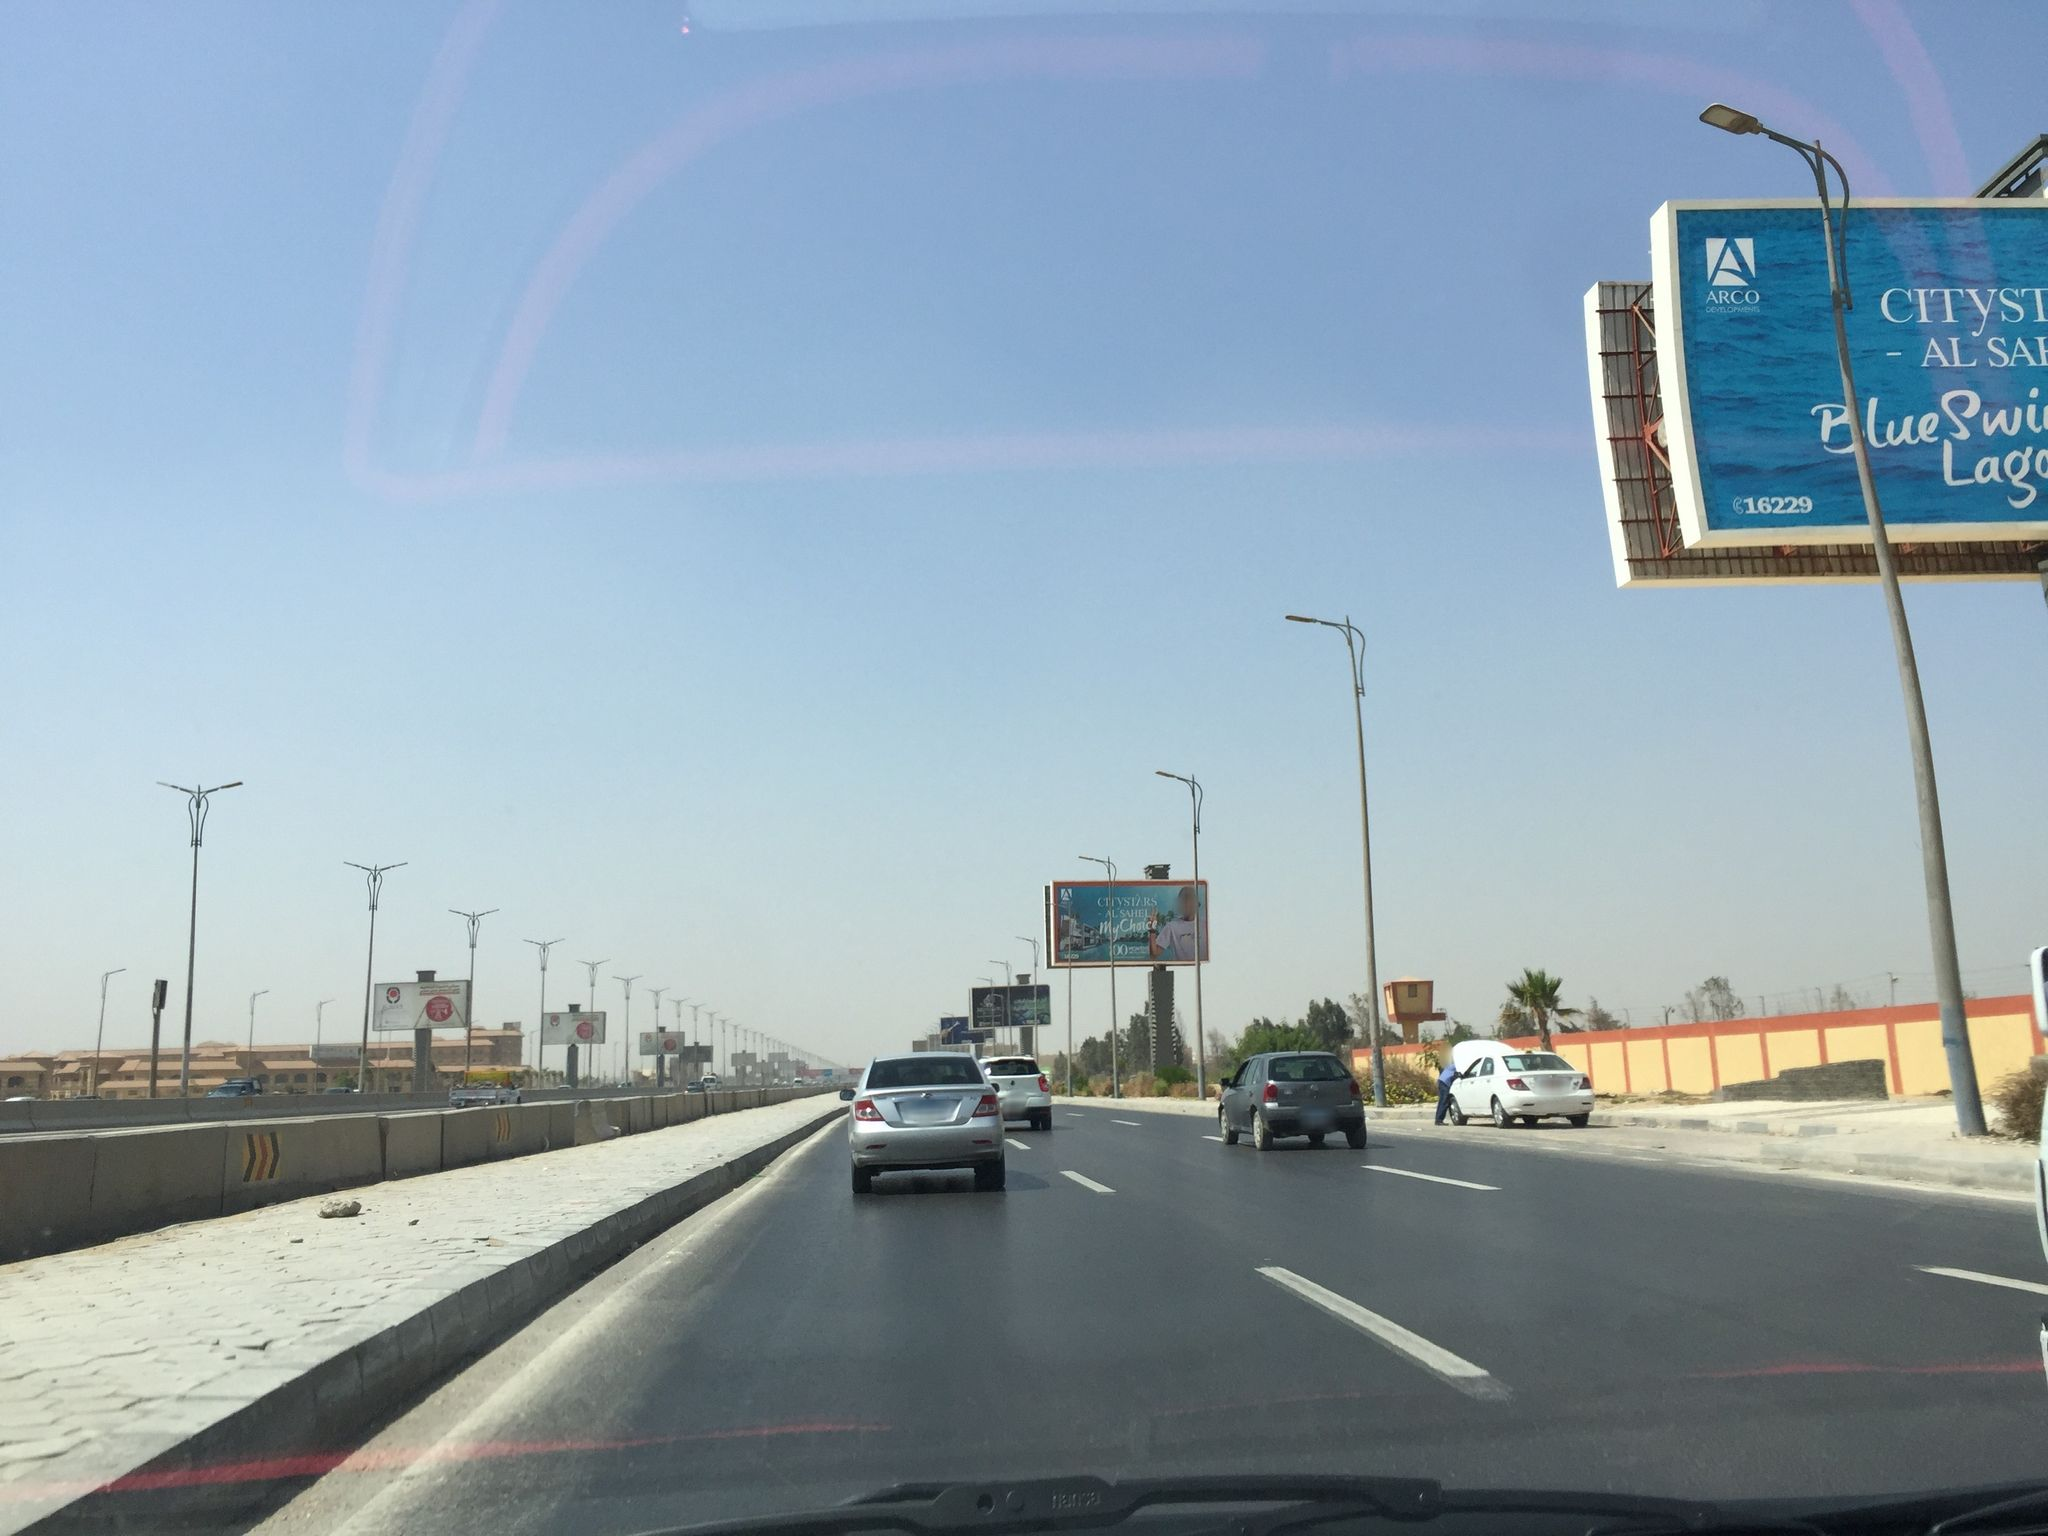car: (835, 1050, 1009, 1196), (1218, 1050, 1367, 1154), (1443, 1039, 1593, 1128), (977, 1052, 1051, 1131)
truck: (447, 1070, 522, 1107)
